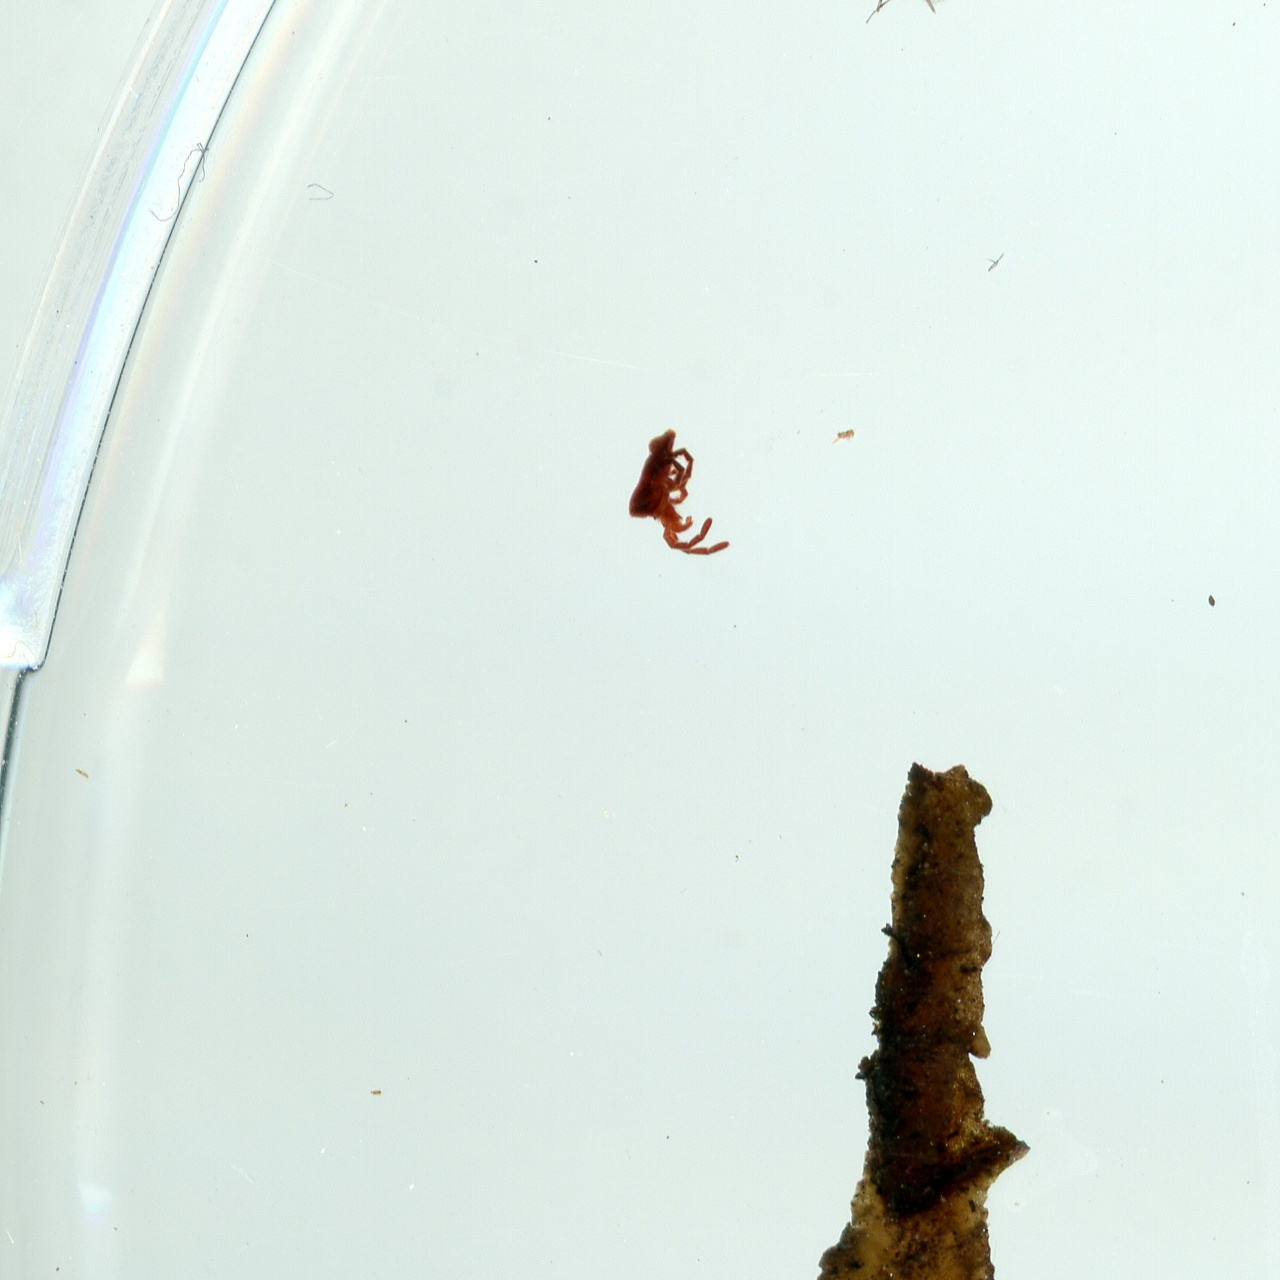arthropod: (622, 414, 739, 571), (805, 0, 959, 33)
